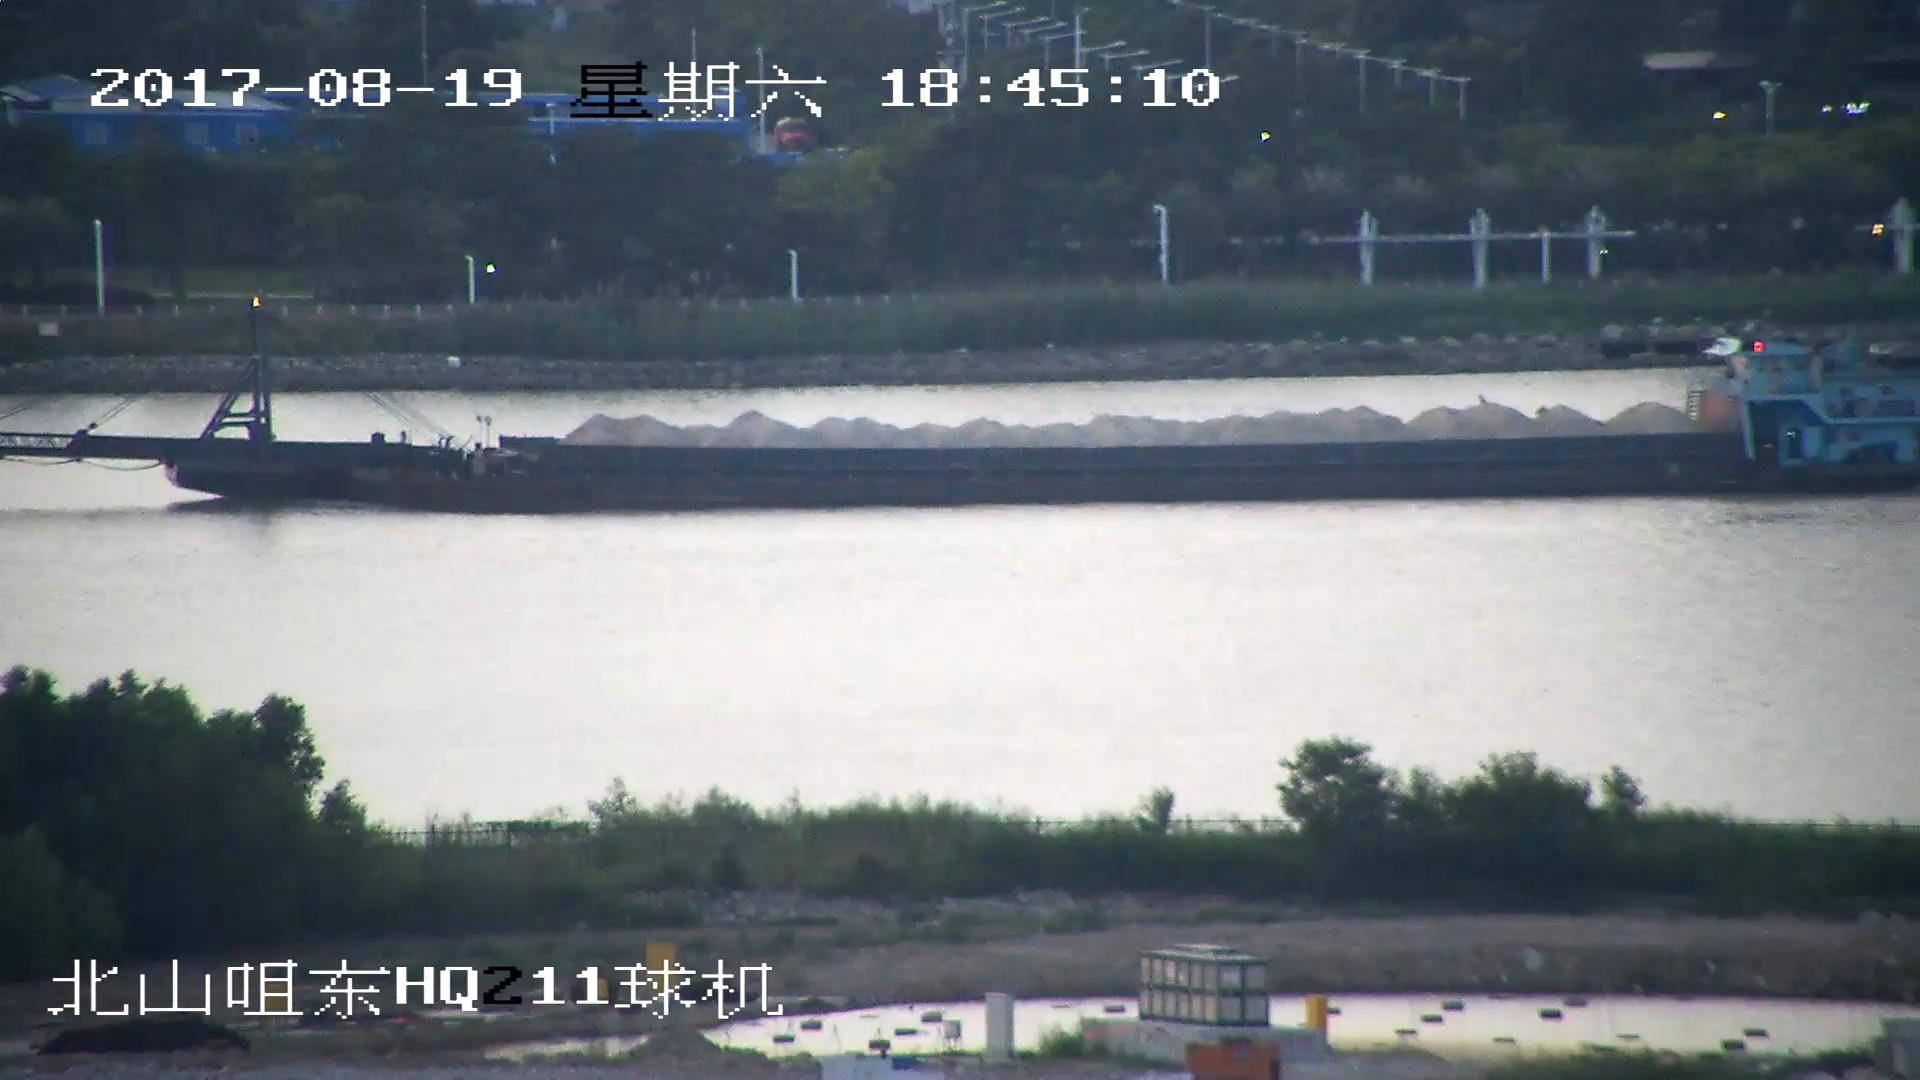ore carrier: (1, 299, 1920, 518)
